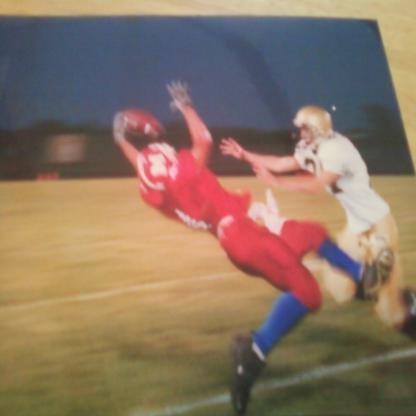Ball: (124, 107, 166, 137)
